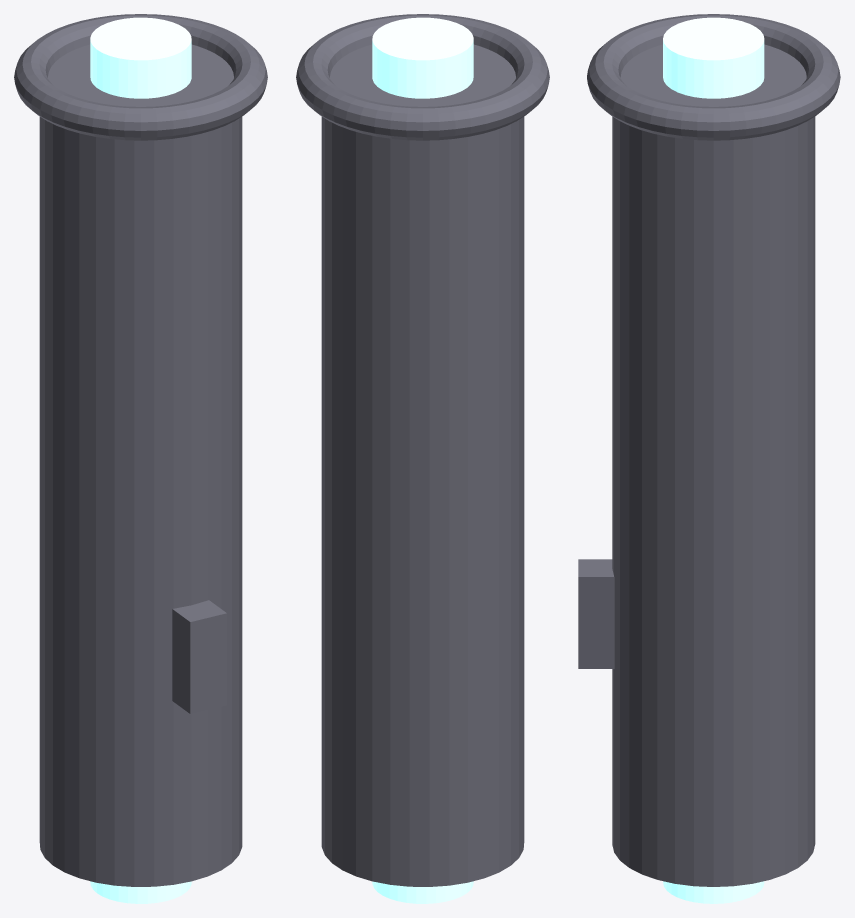
File: plasma_cannon.glb
3 renders of one model, left to right at view 1: azimuth 30°, elevation 25°; view 2: azimuth 150°, elevation 25°; view 3: azimuth 270°, elevation 25°, orthographic.
Visible parts, largest first — view 1: Body, FrontRing, GlowTube, Grip; view 2: Body, FrontRing, GlowTube; view 3: Body, FrontRing, GlowTube, Grip.
Part boxes in pixels (x1,y1,x2,y2): Body: (39,44,242,886); FrontRing: (14,14,267,140); GlowTube: (90,17,191,903); Grip: (172,600,226,713); Body: (321,44,524,886); FrontRing: (296,14,549,140); GlowTube: (372,17,473,903); Body: (612,44,815,886); FrontRing: (587,14,840,140); GlowTube: (663,17,764,903); Grip: (578,559,614,668).
Size of the model in its own units: 0.15 by 0.55 by 0.155.
